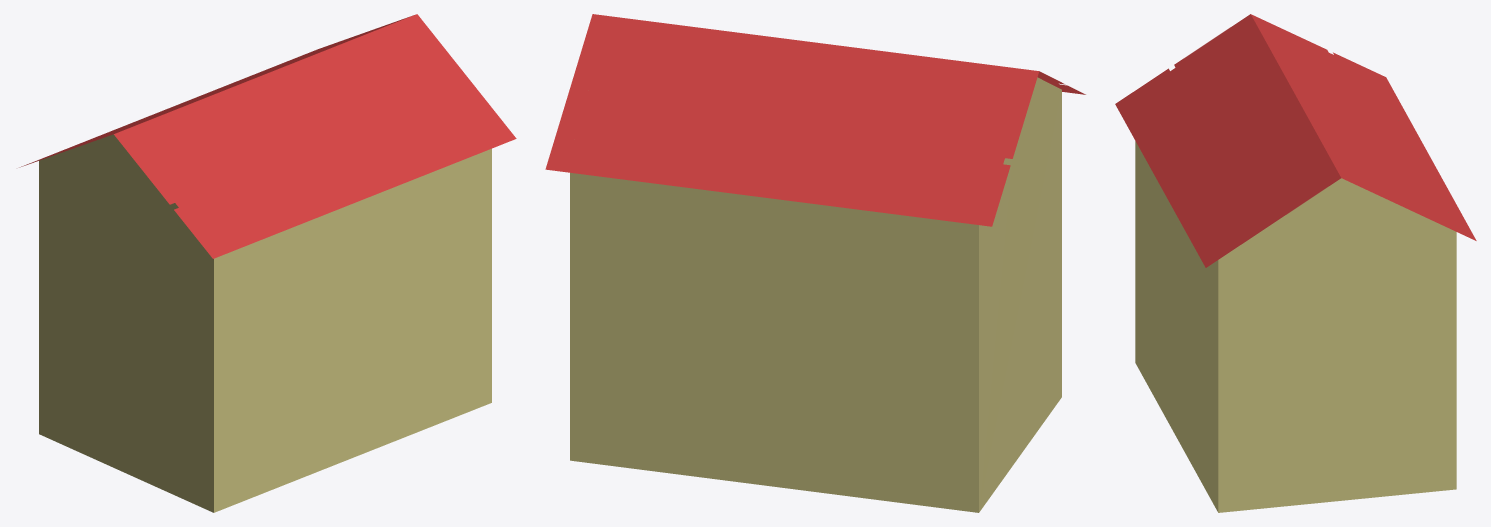
The picture shows the model from 3 angles, left to right: view 1: azimuth 30°, elevation 25°; view 2: azimuth 150°, elevation 25°; view 3: azimuth 270°, elevation 25°; orthographic projection. The views are drawn at different scales.
Size of the model in its own units: 13.45 by 10.77 by 10.84.
